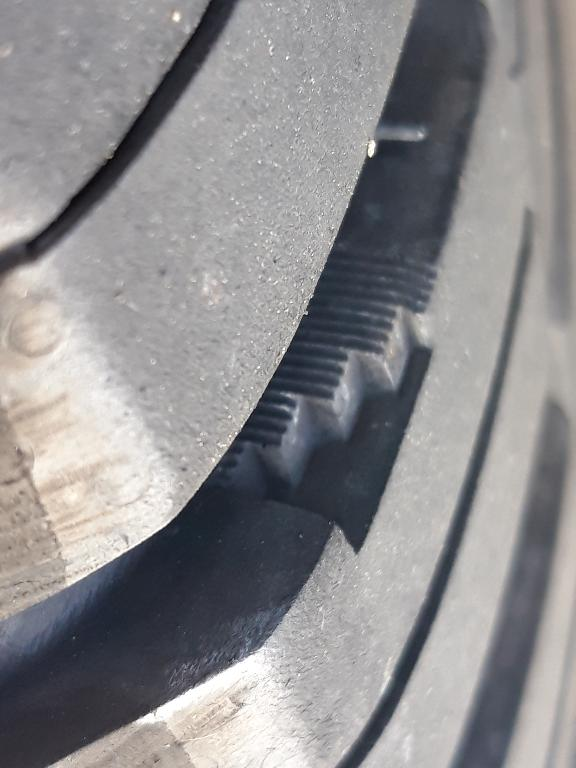temoin:90: (200, 229, 476, 570)
